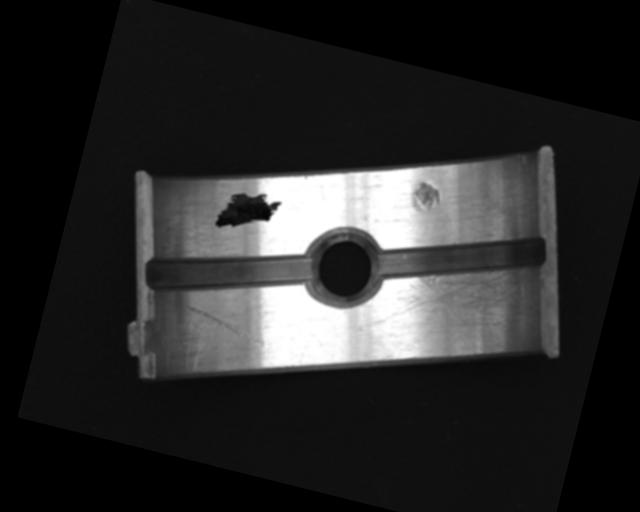blot: (213, 182, 284, 243)
bruise: (407, 179, 444, 218)
gap: (373, 202, 549, 315), (143, 219, 317, 326)
hole: (300, 225, 388, 312)
nick: (179, 302, 270, 348)
scratch: (374, 242, 544, 362)
